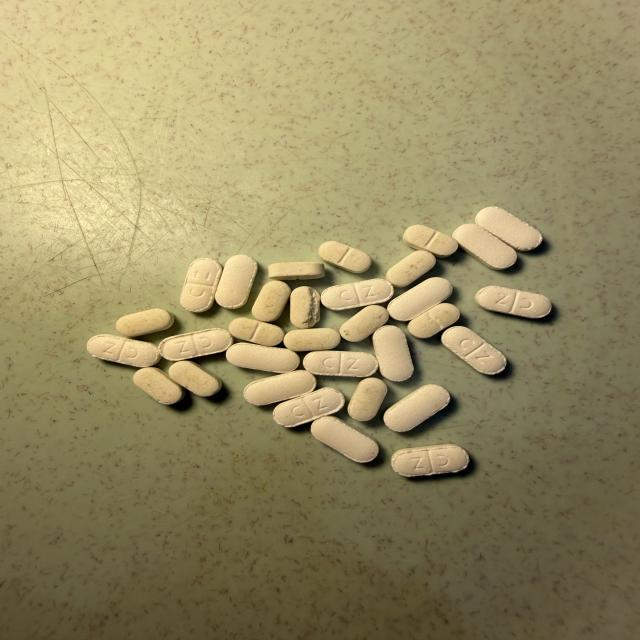pill: (311, 416, 378, 463), (384, 385, 450, 432), (442, 326, 506, 374), (475, 207, 542, 251), (453, 224, 517, 269), (273, 387, 344, 427), (388, 277, 452, 321), (392, 444, 469, 477), (244, 370, 316, 405), (476, 286, 551, 318), (159, 328, 233, 360), (87, 335, 160, 367), (373, 325, 413, 381), (321, 279, 393, 310), (215, 255, 257, 308), (181, 258, 222, 312), (226, 343, 299, 373), (303, 351, 378, 377), (133, 367, 184, 404), (339, 305, 389, 342), (169, 361, 221, 396), (408, 303, 459, 338), (386, 251, 435, 287), (403, 225, 457, 257), (348, 378, 387, 421), (319, 241, 371, 273), (116, 309, 174, 337), (252, 281, 291, 322), (229, 318, 284, 346), (284, 328, 340, 351), (290, 287, 320, 329), (269, 262, 324, 280)
